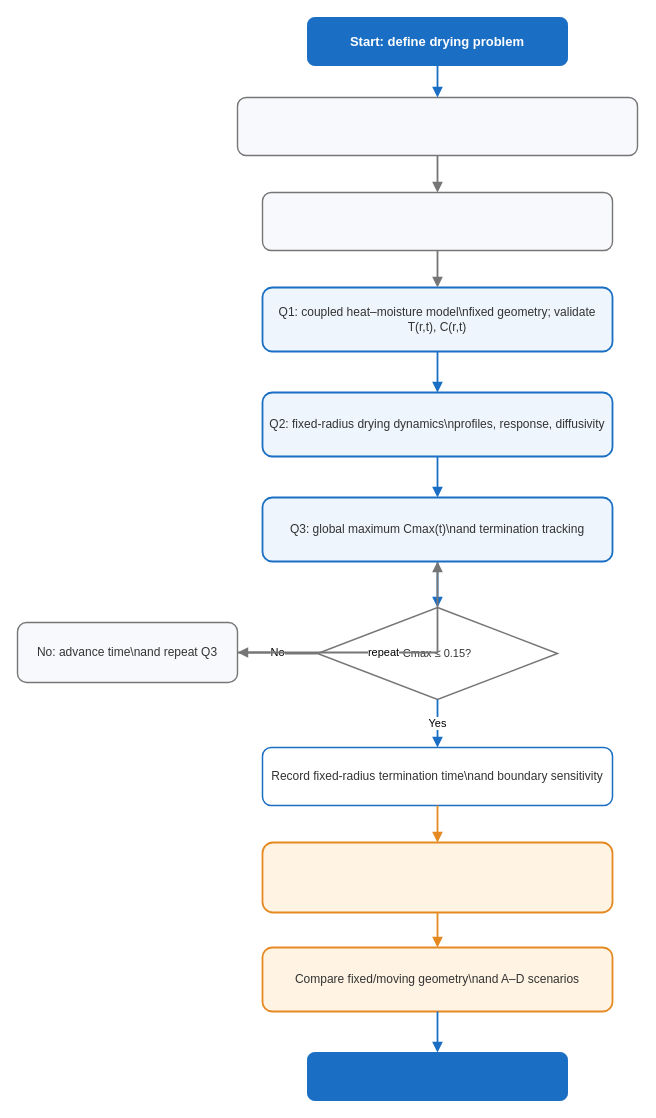
Image size: 656x1118. Some labels were removed from this diagram. The shapes that lost their labels are listed below. From the top down, each one's box as (x1, y1, x2, y2) in pixels, then its label:
(236, 96, 638, 156): Read drying-air data, material properties,\nand initial temperature/moisture
(261, 191, 613, 251): Preprocess data and initialize radial grid\n(axis r = 0, surface r = R)
(261, 841, 613, 913): Q4: introduce moving radius R(t)\nmaterial-coordinate transport
(306, 1052, 568, 1100): Output figures, tables, conclusions
